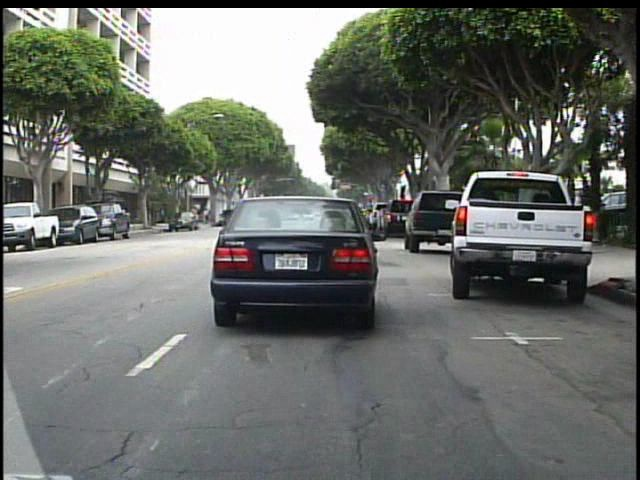person: (202, 204, 214, 228)
